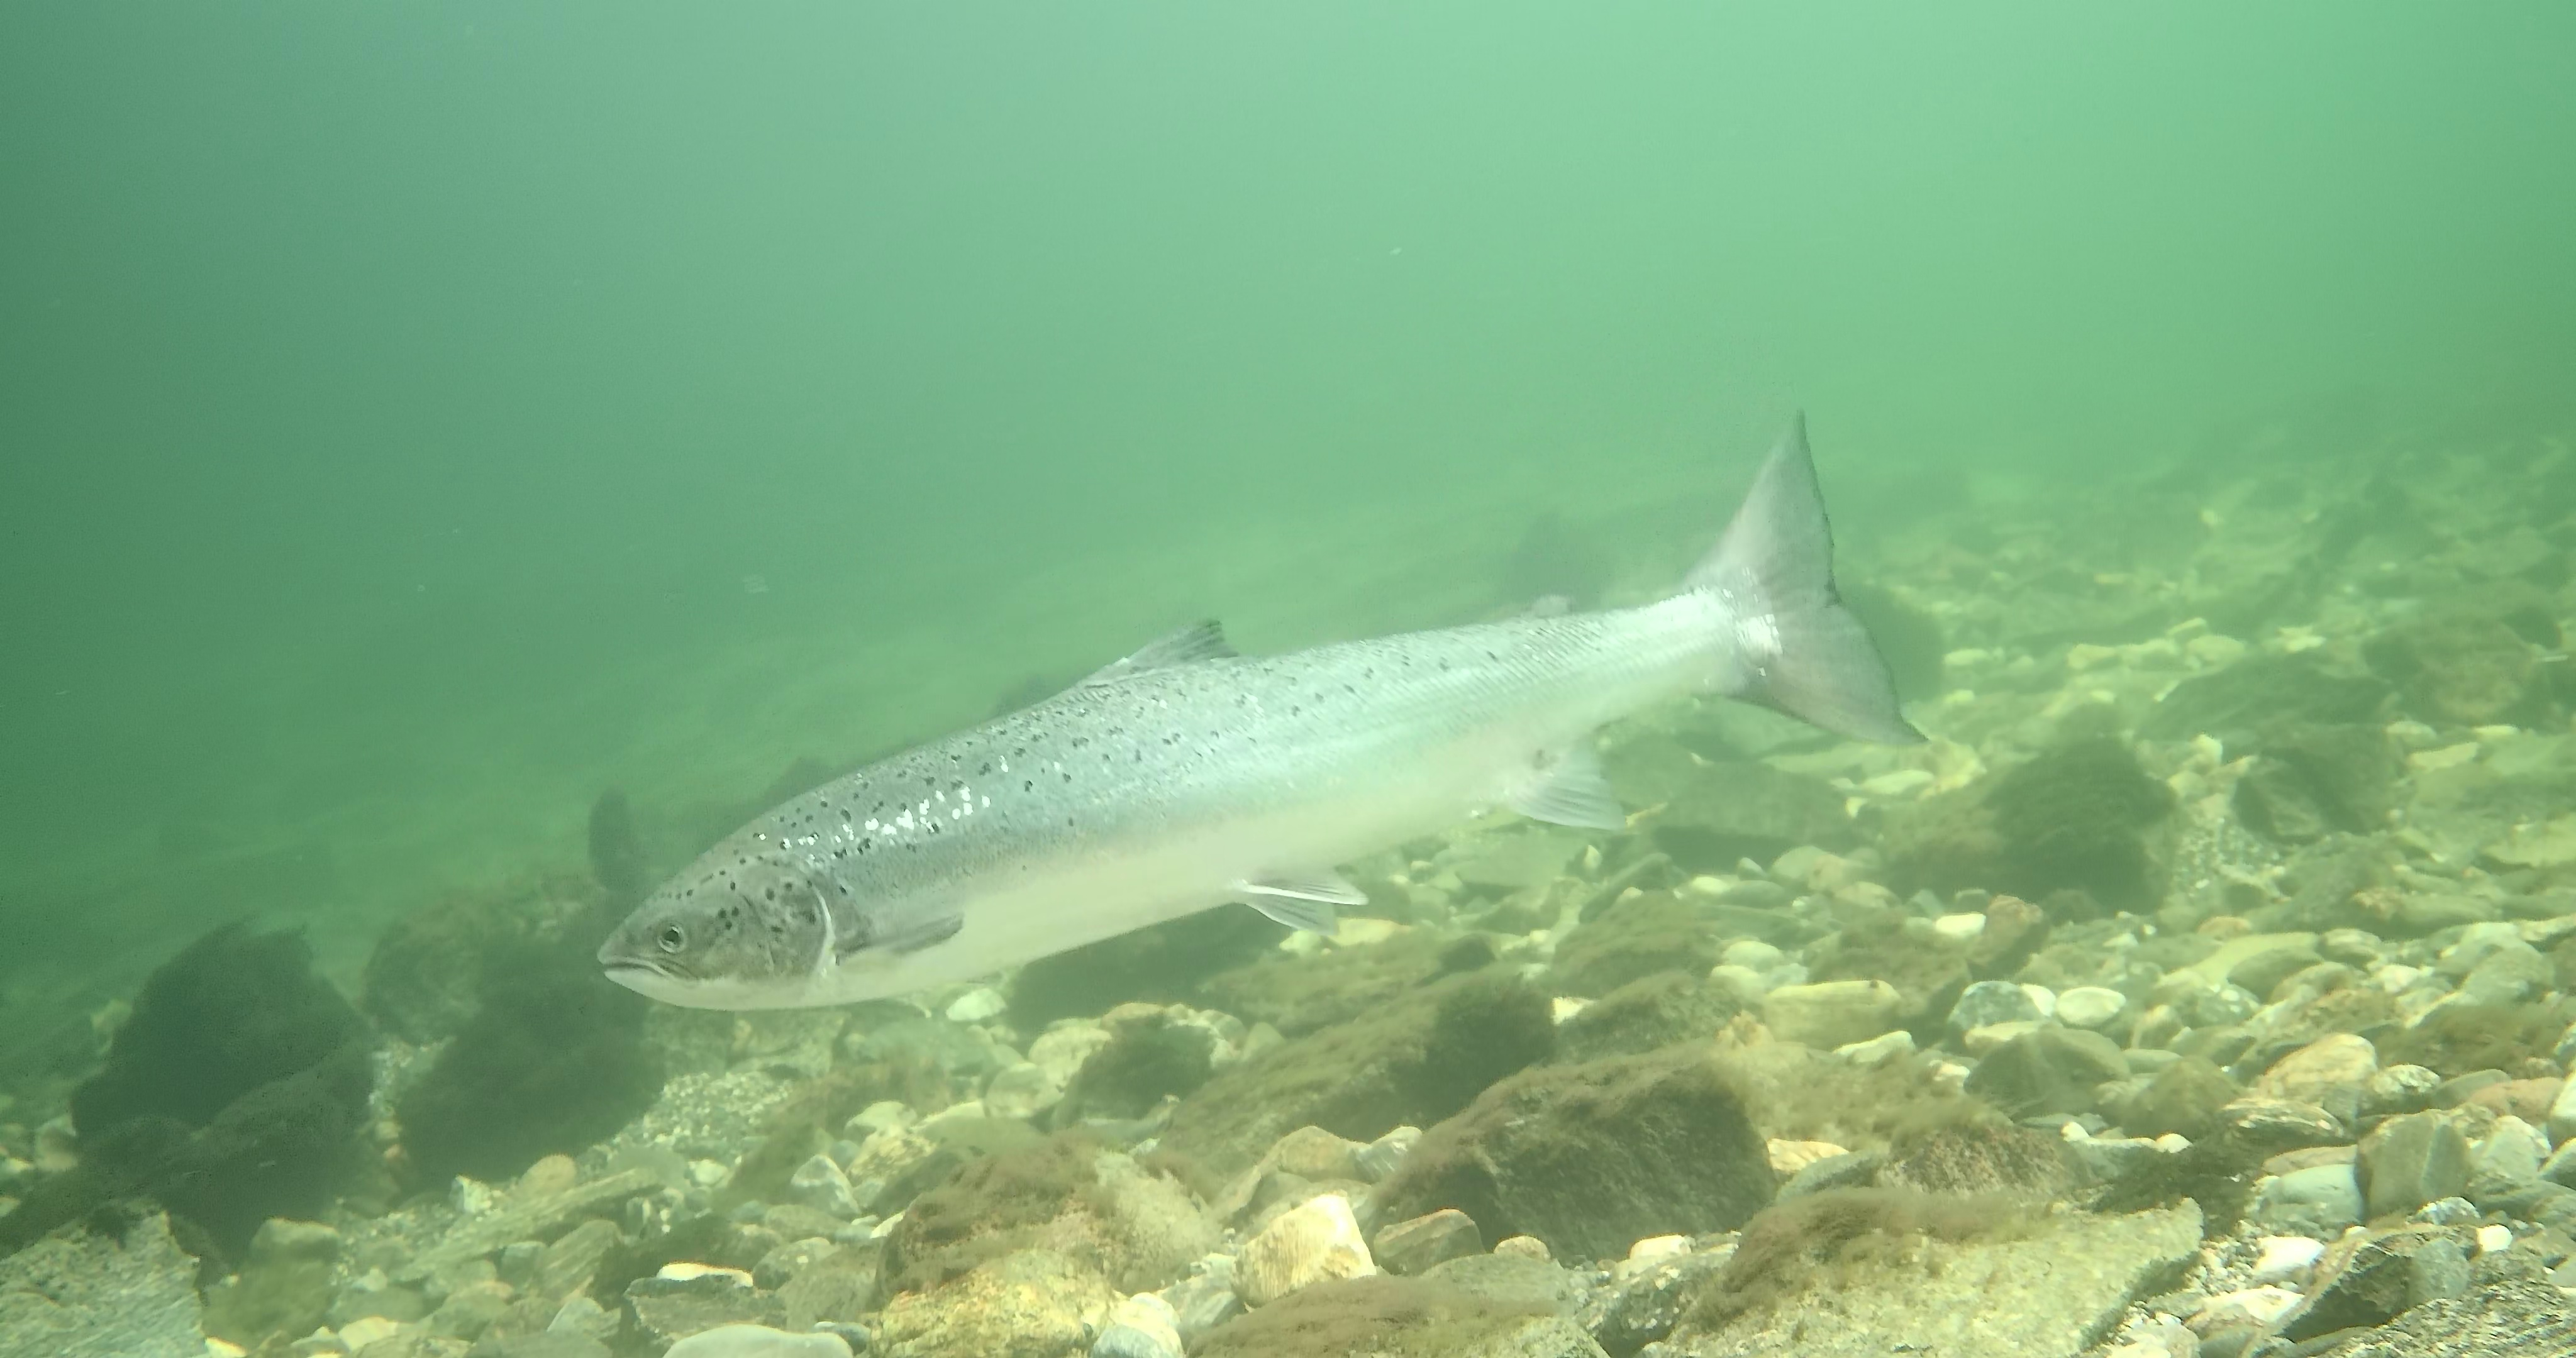salmon: (588, 404, 1918, 1019)
